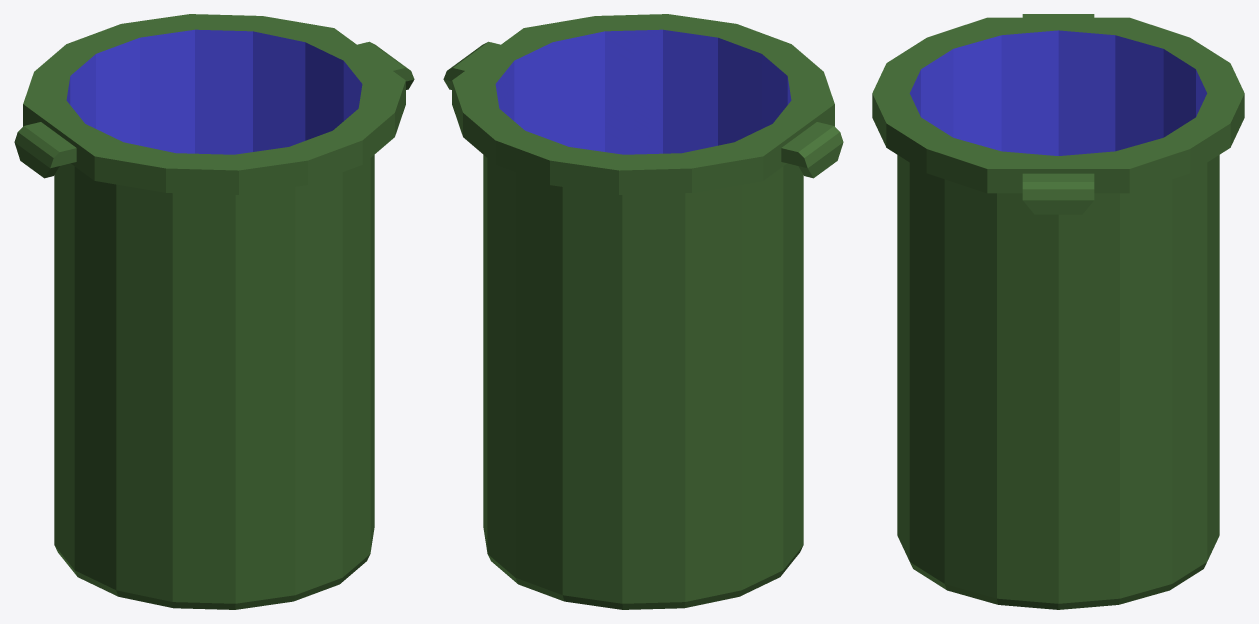
File: Prop_TrashCan_05.fbx
The picture shows the model from 3 angles, left to right: view 1: azimuth 30°, elevation 25°; view 2: azimuth 150°, elevation 25°; view 3: azimuth 270°, elevation 25°; orthographic projection.
Parts seen in each view (by area): view 1: Prop_TrashCan_05; view 2: Prop_TrashCan_05; view 3: Prop_TrashCan_05.
Boxes of the visible parts, x1=… form: Prop_TrashCan_05: x1=14, y1=14, x2=414, y2=609; Prop_TrashCan_05: x1=443, y1=14, x2=843, y2=609; Prop_TrashCan_05: x1=872, y1=14, x2=1244, y2=609.
Bounding box in the file's own units: 40.2 × 47.94 × 35.69.
